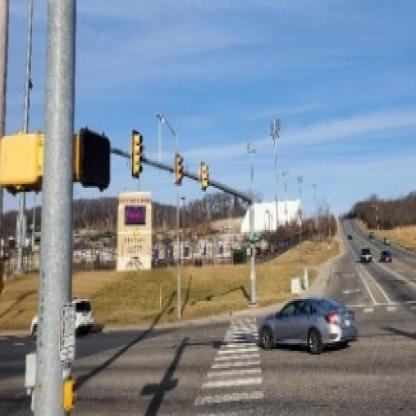Crosswalk: (192, 294, 263, 414)
Traffic Signal: (132, 130, 144, 173)
